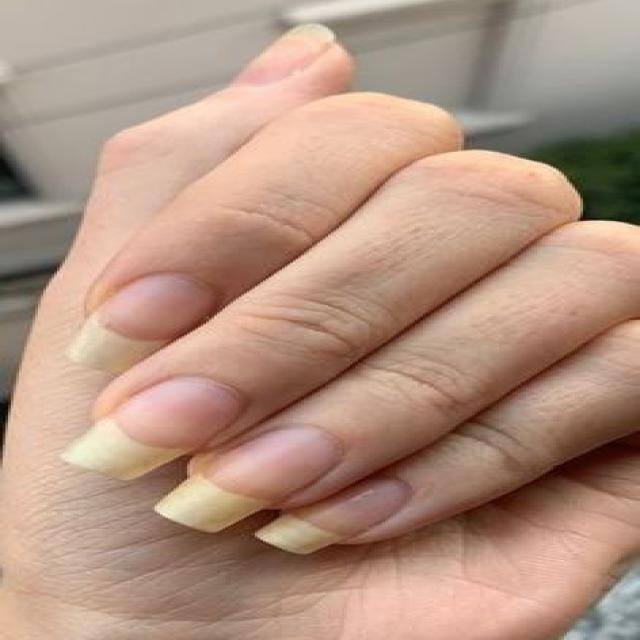Fingernail: (154, 426, 340, 533), (60, 377, 242, 482), (66, 273, 216, 375), (254, 477, 413, 554)
